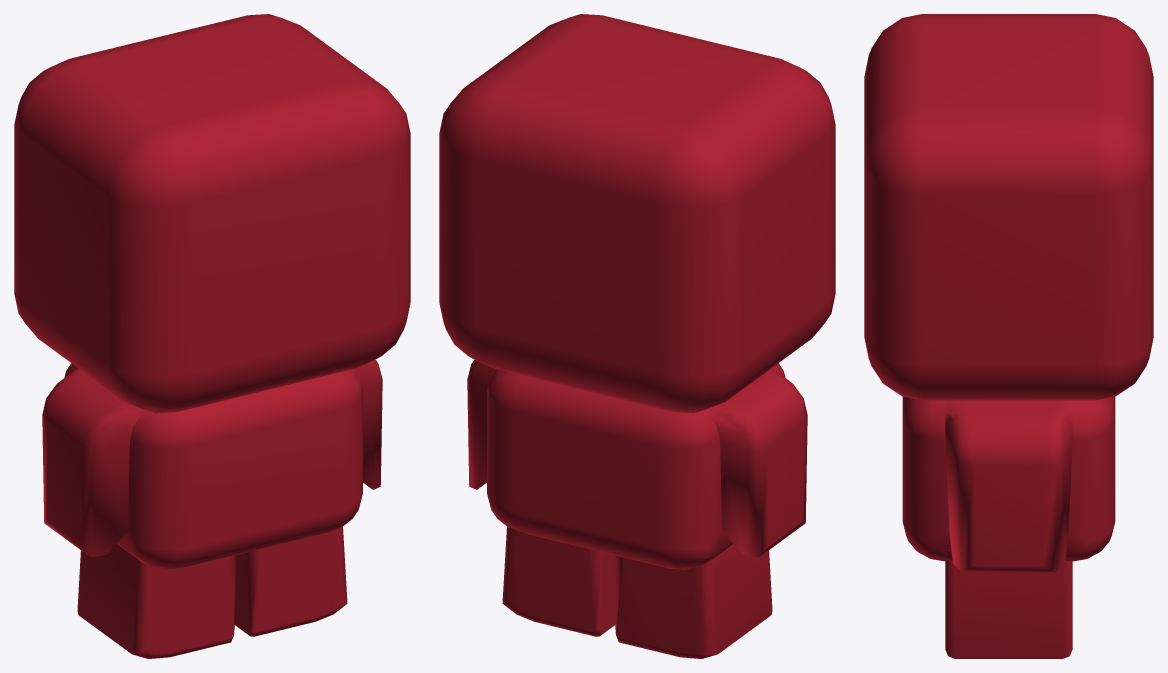
Rendered from Nobbin.fbx.
The picture shows the model from 3 angles, left to right: view 1: azimuth 30°, elevation 25°; view 2: azimuth 150°, elevation 25°; view 3: azimuth 270°, elevation 25°; orthographic projection.
Parts seen in each view (by area): view 1: NobbinHead, NobbinBody; view 2: NobbinHead, NobbinBody; view 3: NobbinHead, NobbinBody.
Part boxes in pixels (left/top/right/bottom): NobbinHead: left=14, top=14, right=410, bottom=413; NobbinBody: left=42, top=359, right=382, bottom=658; NobbinHead: left=439, top=14, right=835, bottom=413; NobbinBody: left=467, top=359, right=807, bottom=658; NobbinHead: left=864, top=14, right=1153, bottom=400; NobbinBody: left=902, top=396, right=1115, bottom=658.
Bounding box in the file's own units: 0.998 × 1.76 × 0.8354.
